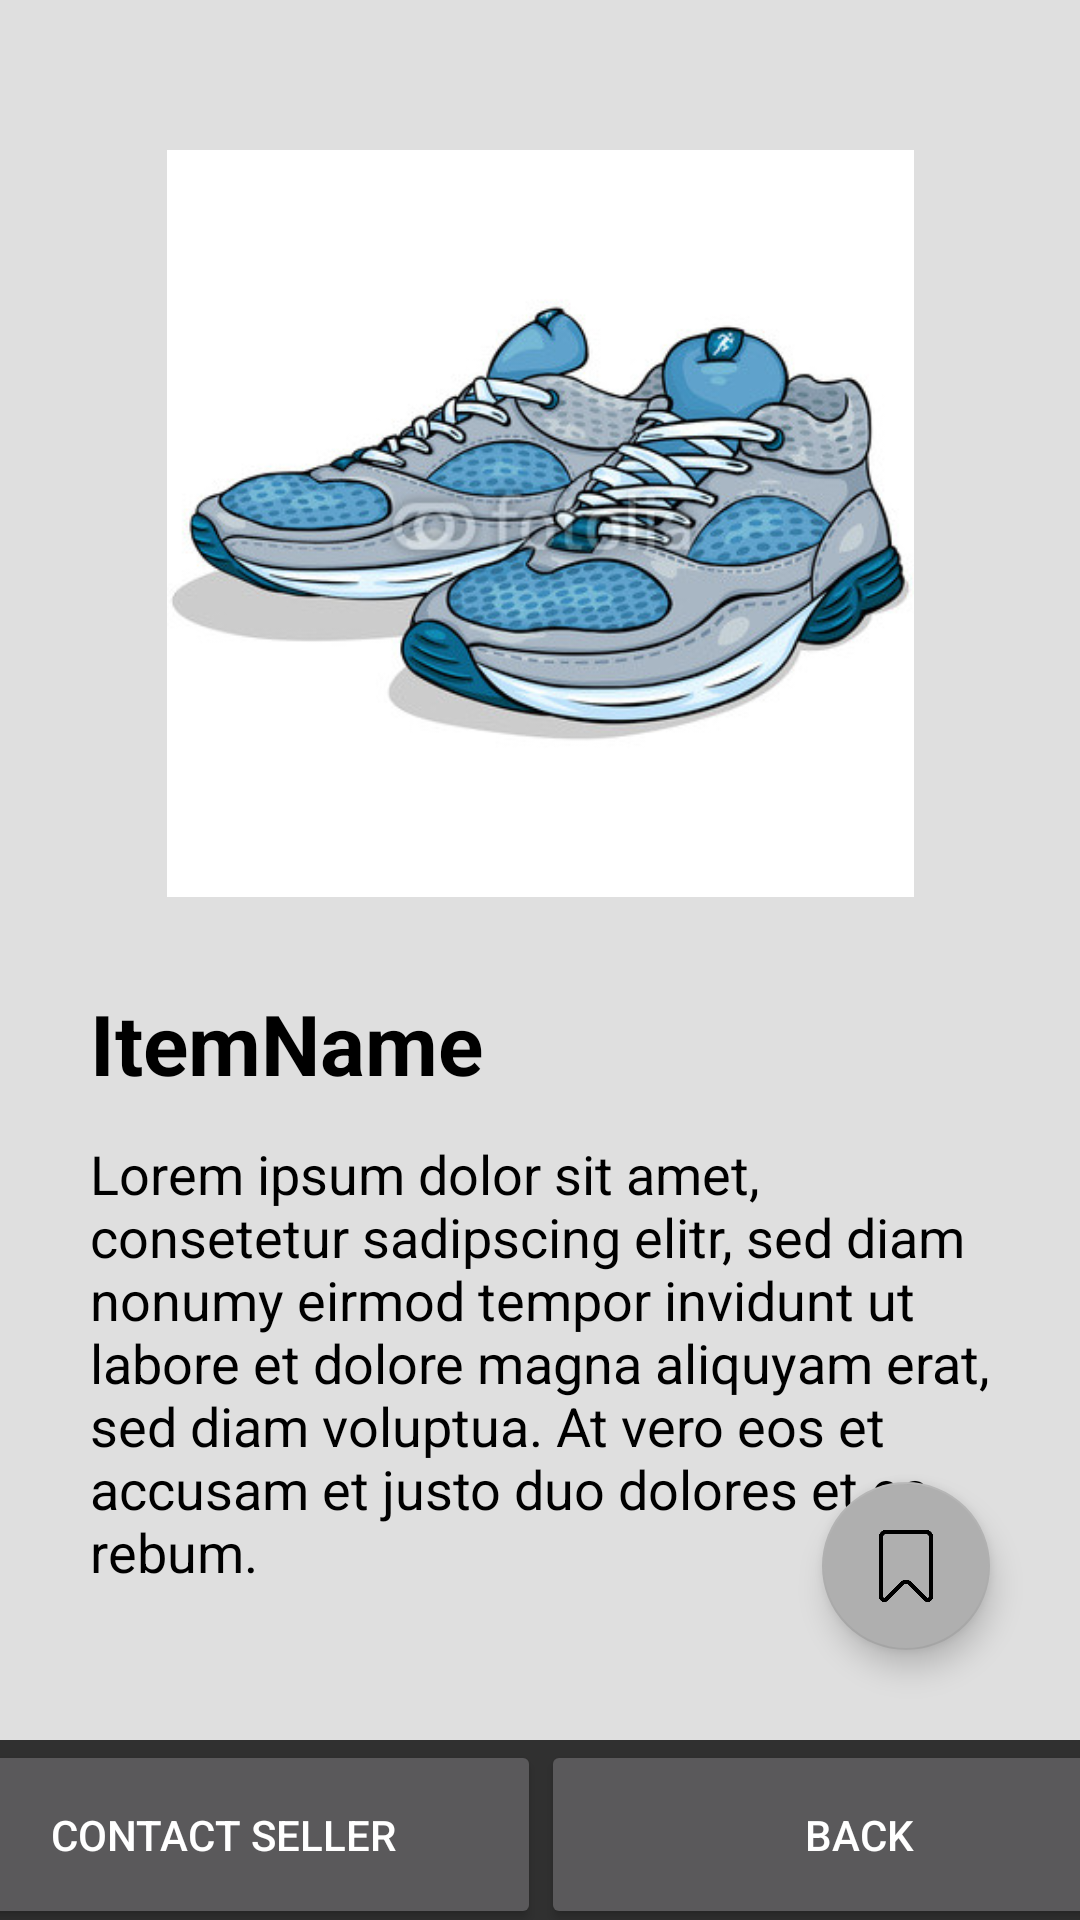

Icon click points for this 1080*1920 phone screenshot, format [x,y]:
save: [906,1566]
